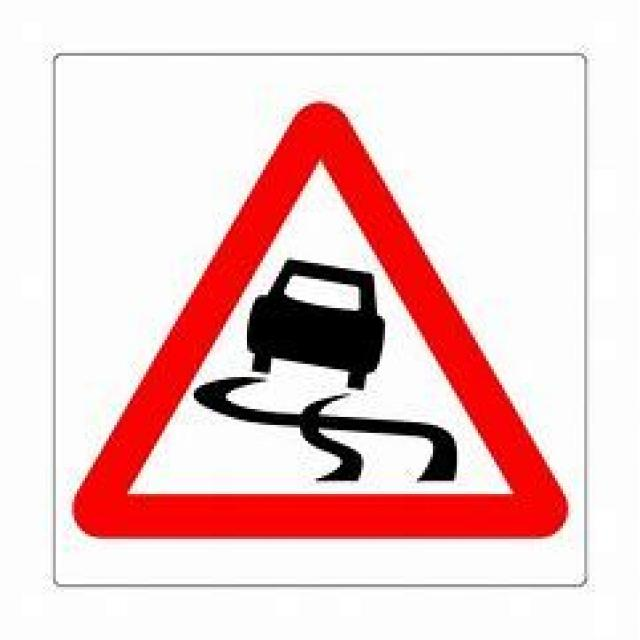SLIPPERY_ROAD: (66, 98, 568, 539)
